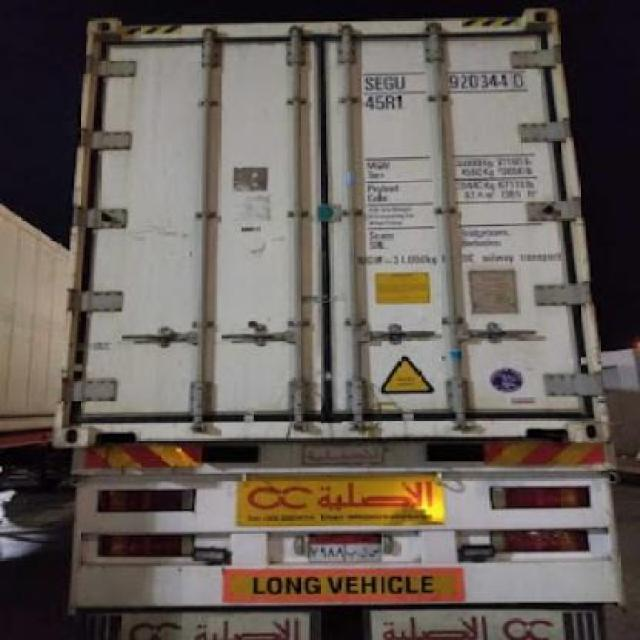ISO: (366, 90, 406, 111)
container_number: (362, 62, 532, 99)
